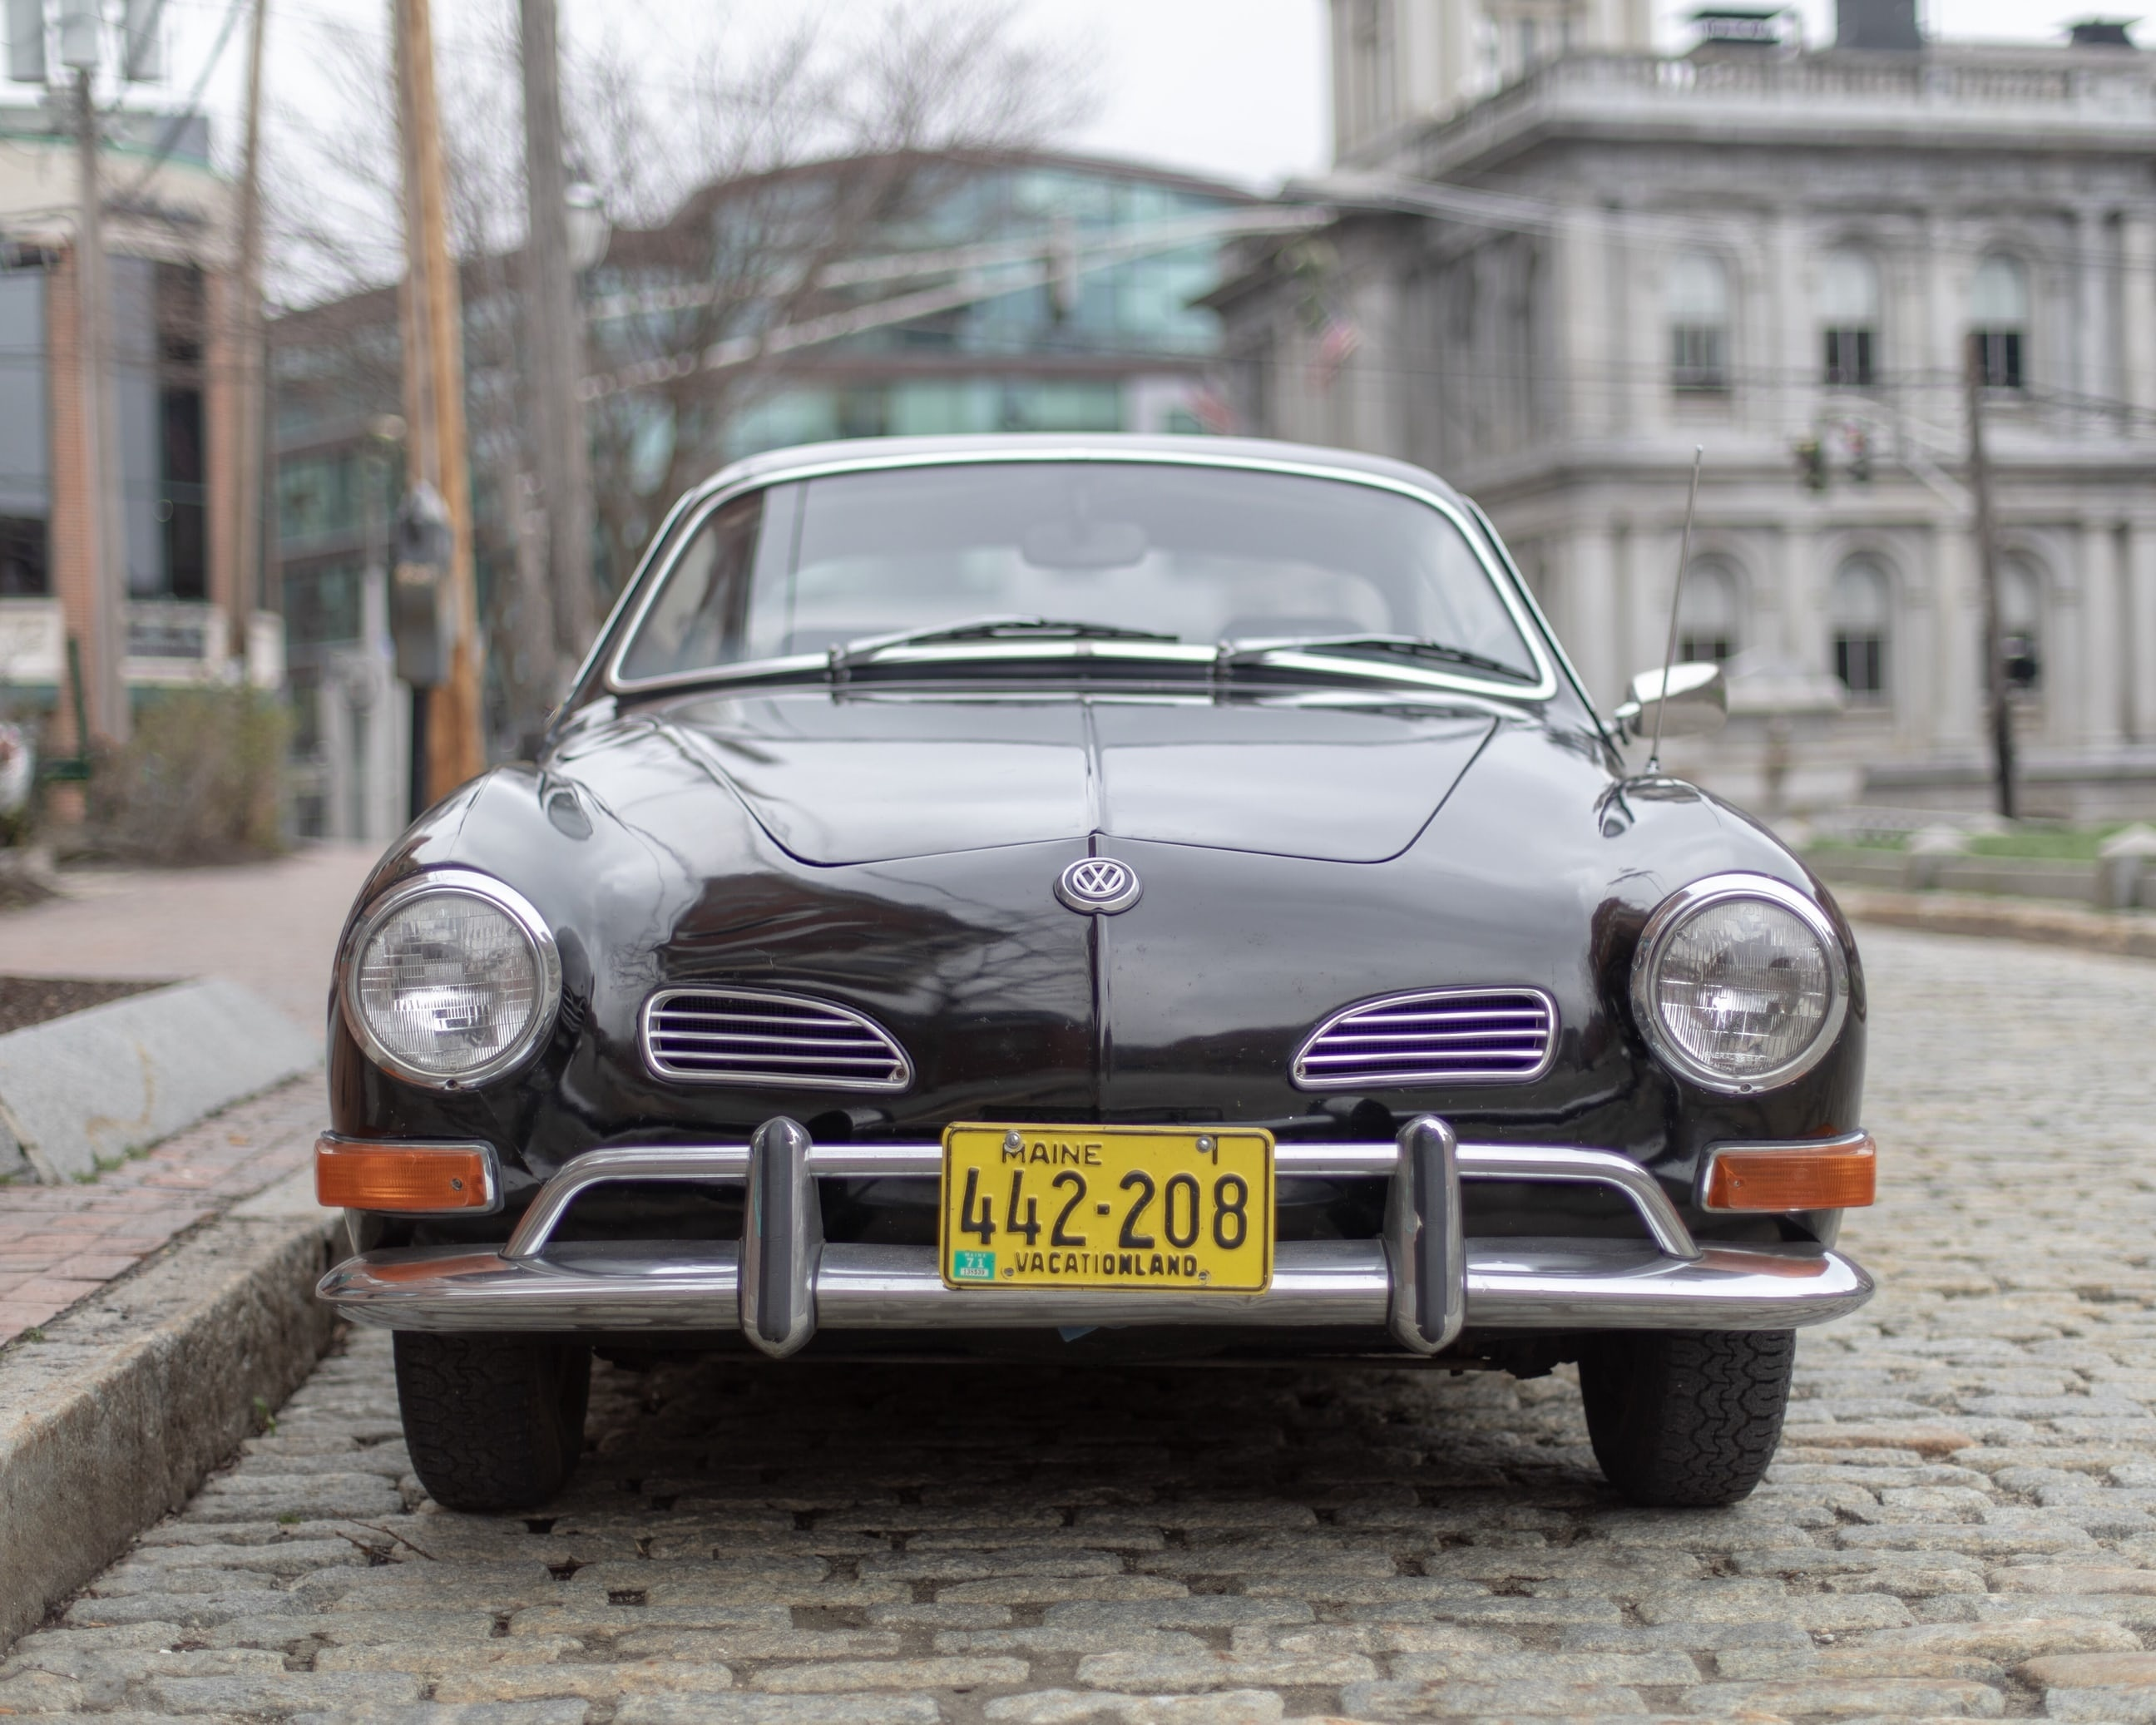plaka: (939, 1121, 1273, 1292)
